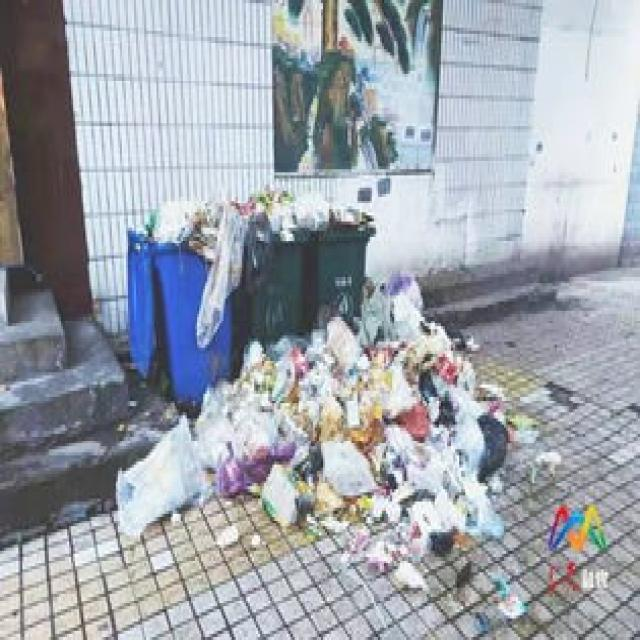garbage: (114, 271, 526, 631)
overflow: (144, 191, 240, 409), (233, 185, 300, 342), (305, 188, 374, 326)
